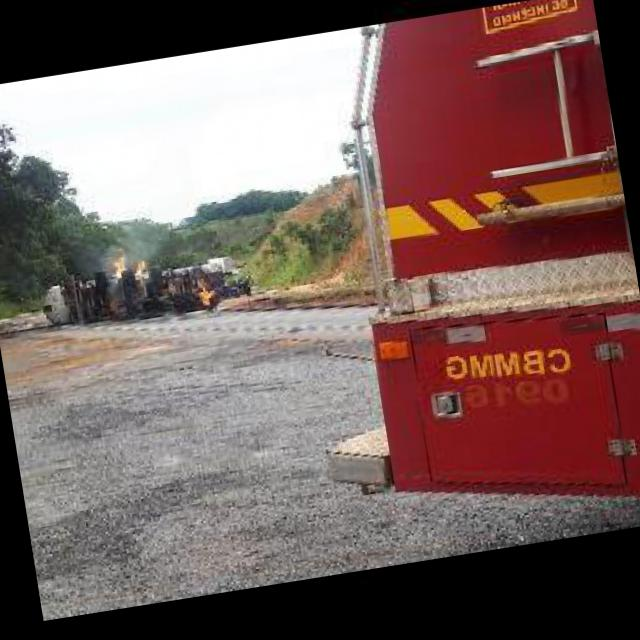fire: (193, 278, 219, 306), (108, 248, 130, 276), (131, 258, 148, 274)
smoke: (102, 218, 176, 262)
